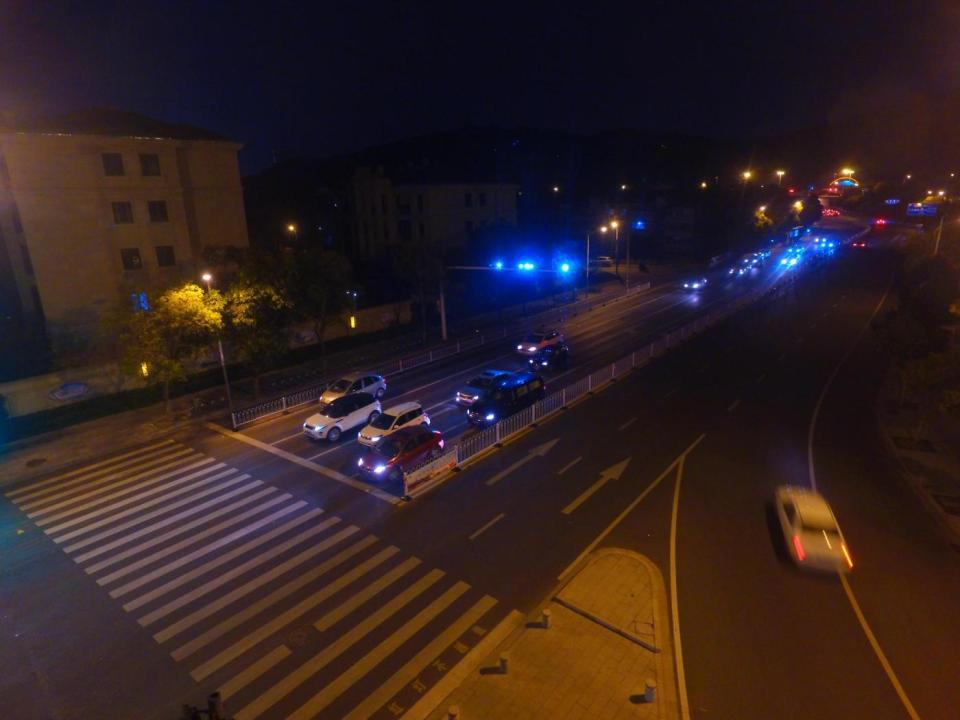car: (777, 483, 856, 577), (360, 426, 444, 487), (465, 377, 546, 430), (301, 394, 384, 443), (318, 374, 388, 422), (358, 403, 429, 450), (453, 369, 522, 411), (516, 326, 564, 354), (530, 346, 570, 376), (680, 276, 708, 292), (586, 255, 612, 267), (742, 254, 762, 268), (727, 267, 749, 279), (782, 255, 800, 268), (754, 246, 772, 259), (788, 245, 805, 258), (822, 240, 838, 251), (850, 241, 866, 251), (815, 234, 828, 242)
